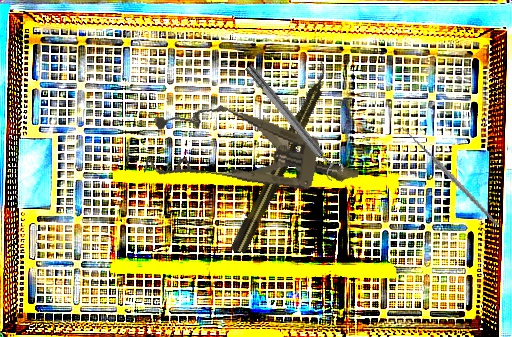Fixation Ring: (240, 59, 347, 183)
Handpiece: (227, 60, 338, 258)
Hook Surgical: (394, 110, 500, 244)
Speculum: (143, 94, 367, 215)
